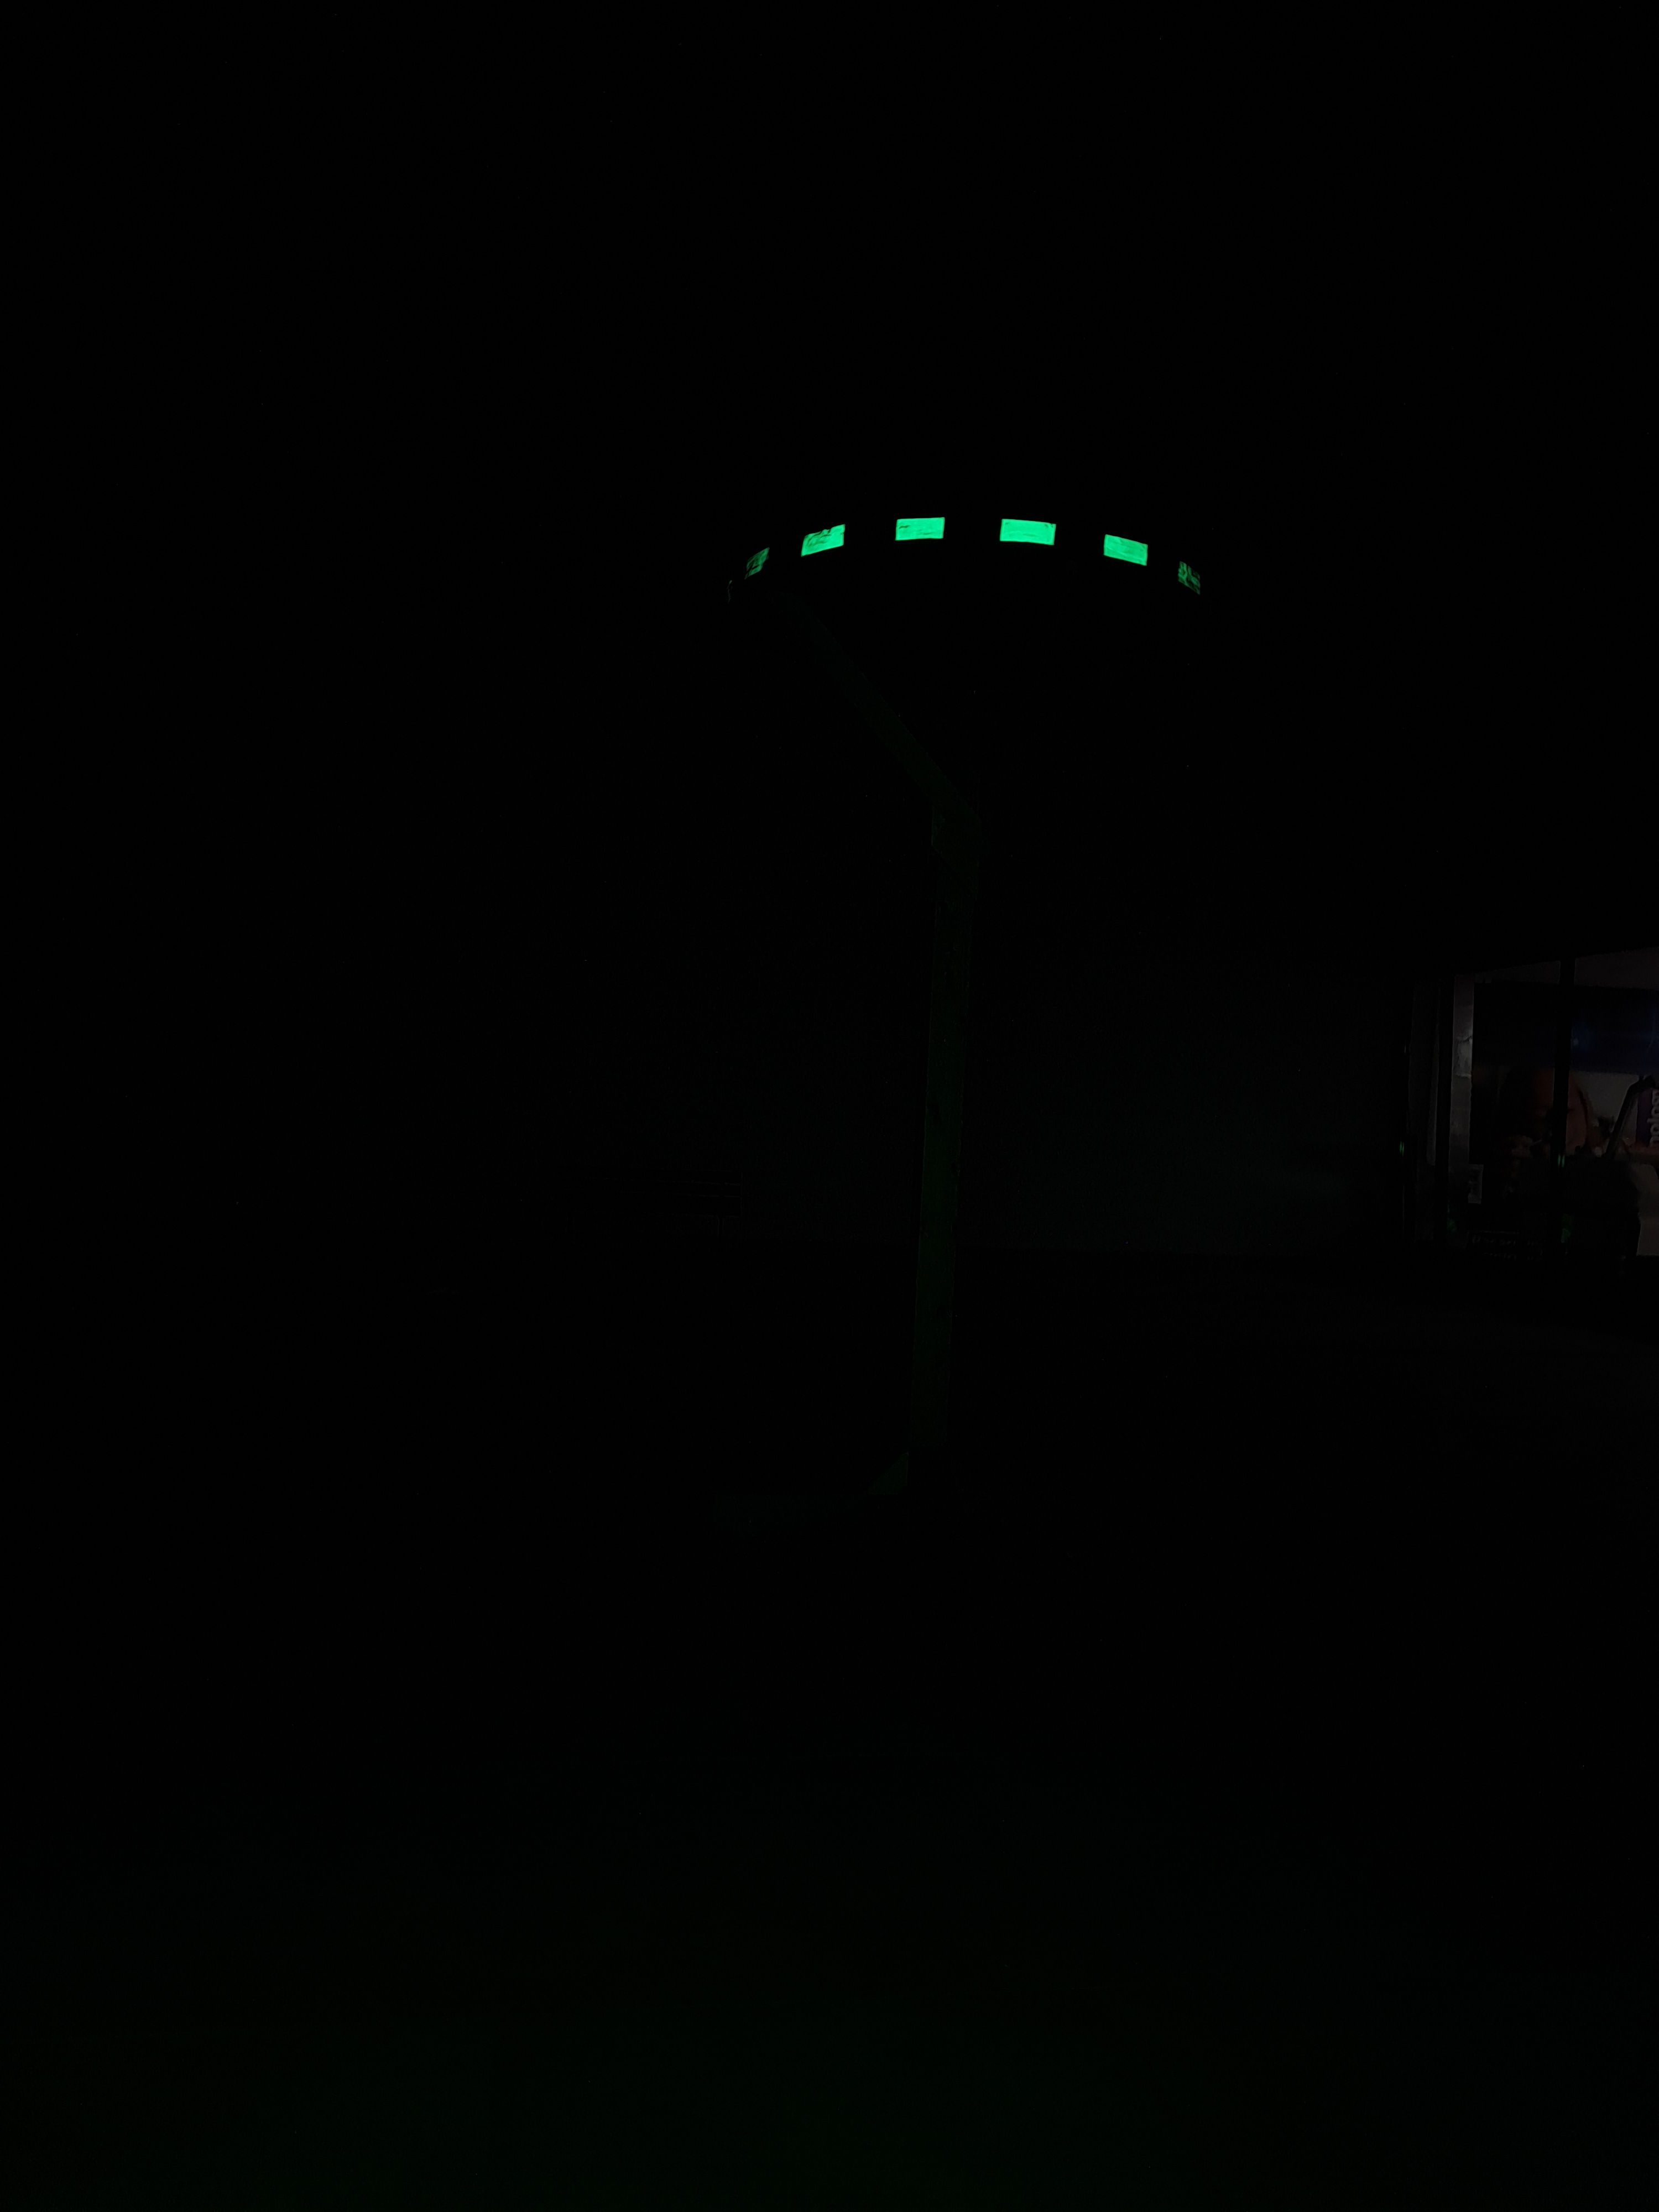hoop: (697, 500, 1230, 615)
